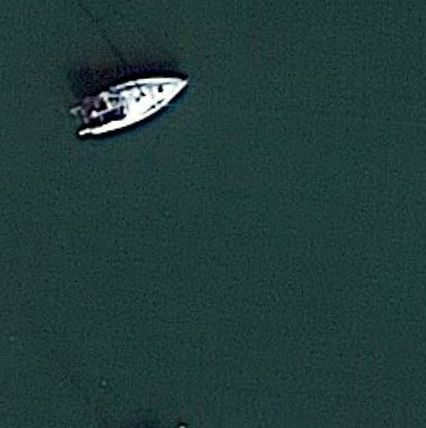boat: (68, 74, 194, 139)
